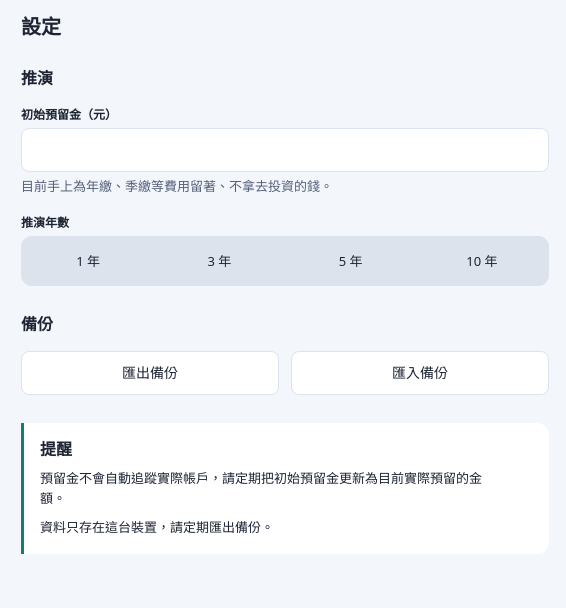
Test: 匯出 › 下載當天日期的備份檔
Click the button "匯出備份" at [150, 373], box top-left (21, 351), bottom-right (279, 395)
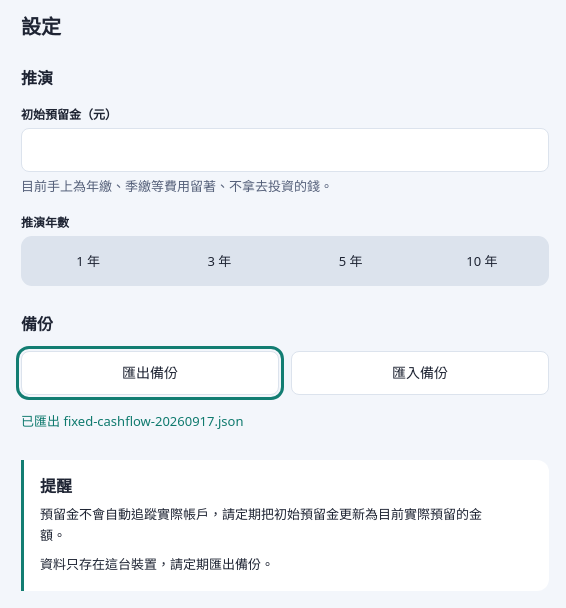
Check: the text "已匯出 fixed-cashflow-20260917.json" is shown, box top-left (21, 412), bottom-right (243, 430)
